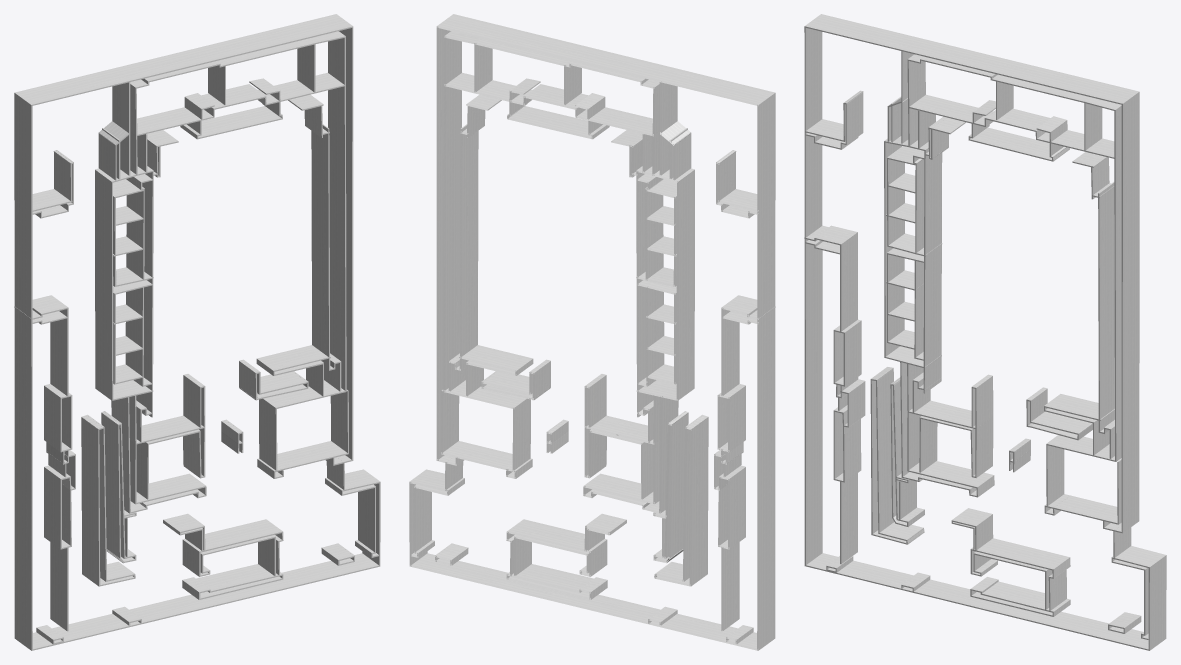
Rendered from wall_1.obj.
3 renders of one model, left to right at view 1: azimuth 30°, elevation 25°; view 2: azimuth 150°, elevation 25°; view 3: azimuth 330°, elevation 25°, orthographic.
Parts seen in each view (by area): view 1: walls; view 2: walls; view 3: walls.
Boxes of the visible parts, x1,y1,x2,y2 form: walls: (14, 14, 380, 650); walls: (409, 14, 775, 650); walls: (804, 14, 1166, 650).
Size of the model in its own units: 29.83 by 44.61 by 2.5.
